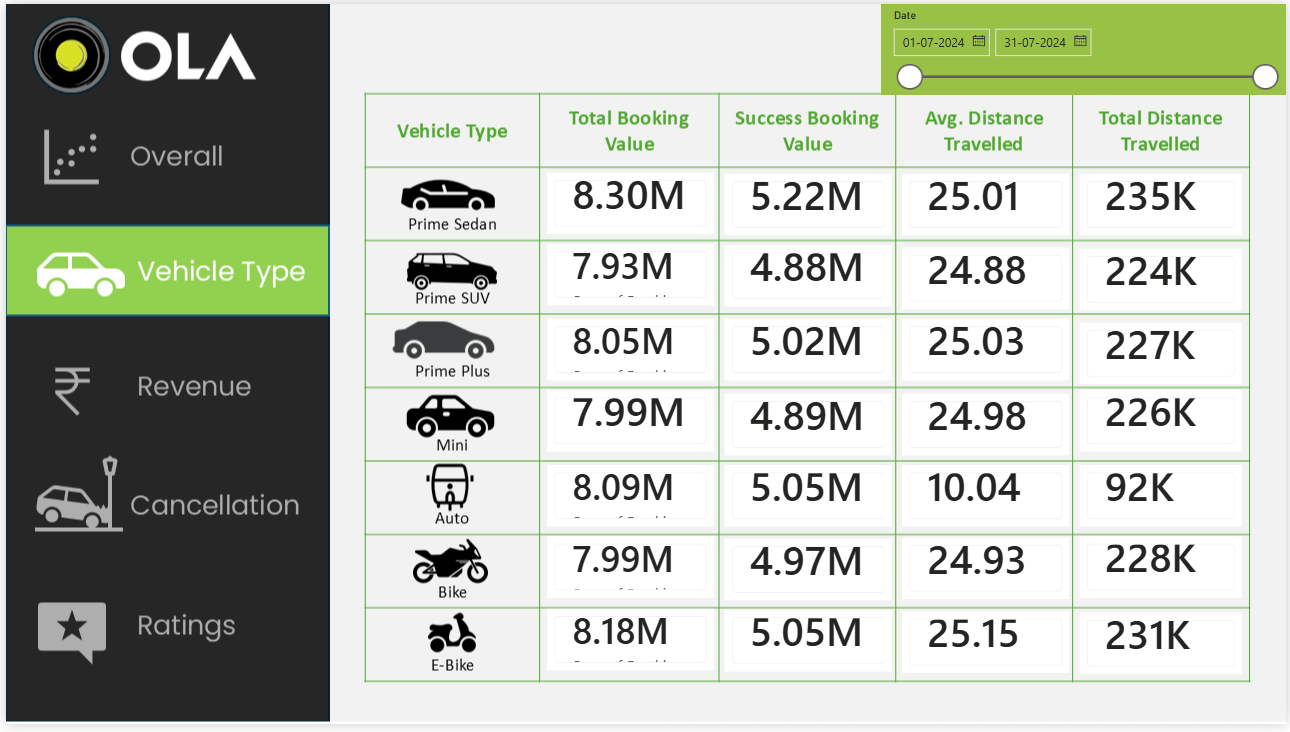

Layout of this report page (visuals, bound fields, positions):
{"tool":"powerbi","page":{"name":"Vehical Type","canvas":[1280,720],"ordinal":1},"visuals":[{"type":"actionButton","box":[0,106.2,322.1,91.7],"z":0},{"type":"actionButton","box":[0,335.4,322.1,91.7],"z":1},{"type":"actionButton","box":[0,446.4,322.1,91.7],"z":2},{"type":"actionButton","box":[1.2,580.3,322.1,91.7],"z":3},{"type":"cardVisual","fields":{"Data":["Sum(Bookings.Booking_Value)"]},"box":[536.2,163.8,177.5,71.2],"z":4},{"type":"cardVisual","fields":{"Data":["Sum(Bookings.Booking_Value)"]},"box":[536.2,235,177.5,71.2],"z":5},{"type":"cardVisual","fields":{"Data":["Sum(Bookings.Booking_Value)"]},"box":[536.2,310,177.5,71.2],"z":6},{"type":"cardVisual","fields":{"Data":["Sum(Bookings.Booking_Value)"]},"box":[536.2,381.2,177.5,71.2],"z":7},{"type":"cardVisual","fields":{"Data":["Sum(Bookings.Booking_Value)"]},"box":[536.2,456.2,177.5,71.2],"z":8},{"type":"cardVisual","fields":{"Data":["Sum(Bookings.Booking_Value)"]},"box":[536.2,527.5,177.5,71.2],"z":9},{"type":"cardVisual","fields":{"Data":["Sum(Bookings.Booking_Value)"]},"box":[536.2,600,177.5,71.2],"z":10},{"type":"cardVisual","fields":{"Data":["Sum(Bookings.Booking_Value)"]},"box":[713.8,165,177.5,71.2],"z":11},{"type":"cardVisual","fields":{"Data":["Sum(Bookings.Booking_Value)"]},"box":[713.8,310,177.5,71.2],"z":12},{"type":"cardVisual","fields":{"Data":["Sum(Bookings.Booking_Value)"]},"box":[713.8,385,177.5,71.2],"z":13},{"type":"cardVisual","fields":{"Data":["Sum(Bookings.Booking_Value)"]},"box":[713.8,456.2,177.5,71.2],"z":14},{"type":"cardVisual","fields":{"Data":["Sum(Bookings.Booking_Value)"]},"box":[713.8,530,177.5,71.2],"z":15},{"type":"cardVisual","fields":{"Data":["Sum(Bookings.Booking_Value)"]},"box":[713.8,601.2,177.5,71.2],"z":16},{"type":"cardVisual","fields":{"Data":["Sum(Bookings.Booking_Value)"]},"box":[713.8,236.2,177.5,71.2],"z":17},{"type":"cardVisual","fields":{"Data":["Avg(Bookings.Ride_Distance)"]},"box":[891.2,165,177.5,71.2],"z":18},{"type":"cardVisual","fields":{"Data":["Avg(Bookings.Ride_Distance)"]},"box":[891.2,238.8,177.5,71.2],"z":19},{"type":"cardVisual","fields":{"Data":["Avg(Bookings.Ride_Distance)"]},"box":[891.2,528.8,177.5,71.2],"z":20},{"type":"cardVisual","fields":{"Data":["Avg(Bookings.Ride_Distance)"]},"box":[891.2,456.2,177.5,71.2],"z":21},{"type":"cardVisual","fields":{"Data":["Avg(Bookings.Ride_Distance)"]},"box":[891.2,385,177.5,71.2],"z":22},{"type":"cardVisual","fields":{"Data":["Avg(Bookings.Ride_Distance)"]},"box":[891.2,310,177.5,71.2],"z":23},{"type":"cardVisual","fields":{"Data":["Avg(Bookings.Ride_Distance)"]},"box":[891.2,602.5,177.5,71.2],"z":24},{"type":"cardVisual","fields":{"Data":["Sum(Bookings.Ride_Distance)"]},"box":[1068.8,165,172.5,71.2],"z":25},{"type":"cardVisual","fields":{"Data":["Sum(Bookings.Ride_Distance)"]},"box":[1068.8,240,172.5,71.2],"z":26},{"type":"cardVisual","fields":{"Data":["Sum(Bookings.Ride_Distance)"]},"box":[1068.8,313.8,172.5,71.2],"z":27},{"type":"cardVisual","fields":{"Data":["Sum(Bookings.Ride_Distance)"]},"box":[1068.8,603.8,172.5,71.2],"z":28},{"type":"cardVisual","fields":{"Data":["Sum(Bookings.Ride_Distance)"]},"box":[1068.8,527.5,172.5,71.2],"z":29},{"type":"cardVisual","fields":{"Data":["Sum(Bookings.Ride_Distance)"]},"box":[1068.8,456.2,172.5,71.2],"z":30},{"type":"cardVisual","fields":{"Data":["Sum(Bookings.Ride_Distance)"]},"box":[1068.8,381.2,172.5,71.2],"z":31},{"type":"slicer","fields":{"Values":["Bookings.Date"]},"box":[875,0,405,90],"z":32}]}

Visuals, with their boxes in screenshot pixels (x1, y1, x2, y2), scaled from the page's 1280x720 canvas onto the 1290x732 screenshot:
actionButton: 0,108,325,201
actionButton: 0,341,325,434
actionButton: 0,454,325,547
actionButton: 1,590,326,683
cardVisual - Sum(Bookings.Booking_Value): 540,167,719,239
cardVisual - Sum(Bookings.Booking_Value): 540,239,719,311
cardVisual - Sum(Bookings.Booking_Value): 540,315,719,388
cardVisual - Sum(Bookings.Booking_Value): 540,388,719,460
cardVisual - Sum(Bookings.Booking_Value): 540,464,719,536
cardVisual - Sum(Bookings.Booking_Value): 540,536,719,609
cardVisual - Sum(Bookings.Booking_Value): 540,610,719,682
cardVisual - Sum(Bookings.Booking_Value): 719,168,898,240
cardVisual - Sum(Bookings.Booking_Value): 719,315,898,388
cardVisual - Sum(Bookings.Booking_Value): 719,391,898,464
cardVisual - Sum(Bookings.Booking_Value): 719,464,898,536
cardVisual - Sum(Bookings.Booking_Value): 719,539,898,611
cardVisual - Sum(Bookings.Booking_Value): 719,611,898,684
cardVisual - Sum(Bookings.Booking_Value): 719,240,898,313
cardVisual - Avg(Bookings.Ride_Distance): 898,168,1077,240
cardVisual - Avg(Bookings.Ride_Distance): 898,243,1077,315
cardVisual - Avg(Bookings.Ride_Distance): 898,538,1077,610
cardVisual - Avg(Bookings.Ride_Distance): 898,464,1077,536
cardVisual - Avg(Bookings.Ride_Distance): 898,391,1077,464
cardVisual - Avg(Bookings.Ride_Distance): 898,315,1077,388
cardVisual - Avg(Bookings.Ride_Distance): 898,613,1077,685
cardVisual - Sum(Bookings.Ride_Distance): 1077,168,1251,240
cardVisual - Sum(Bookings.Ride_Distance): 1077,244,1251,316
cardVisual - Sum(Bookings.Ride_Distance): 1077,319,1251,391
cardVisual - Sum(Bookings.Ride_Distance): 1077,614,1251,686
cardVisual - Sum(Bookings.Ride_Distance): 1077,536,1251,609
cardVisual - Sum(Bookings.Ride_Distance): 1077,464,1251,536
cardVisual - Sum(Bookings.Ride_Distance): 1077,388,1251,460
slicer - Bookings.Date: 882,0,1289,92
